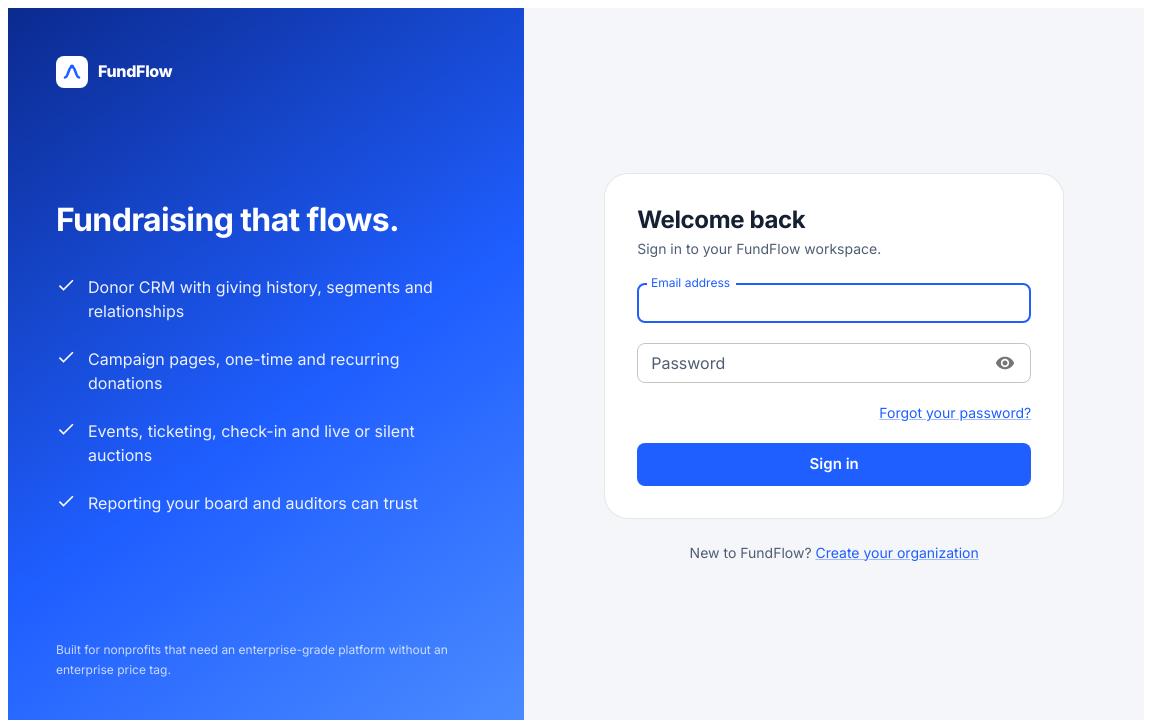
LoginPage › offers to resend the verification email when sign-in is blocked by an unverified address
In the field labelled "Email address": {"x": 834, "y": 303} left=637, top=283, right=1031, bottom=323, type "new@hope.org"
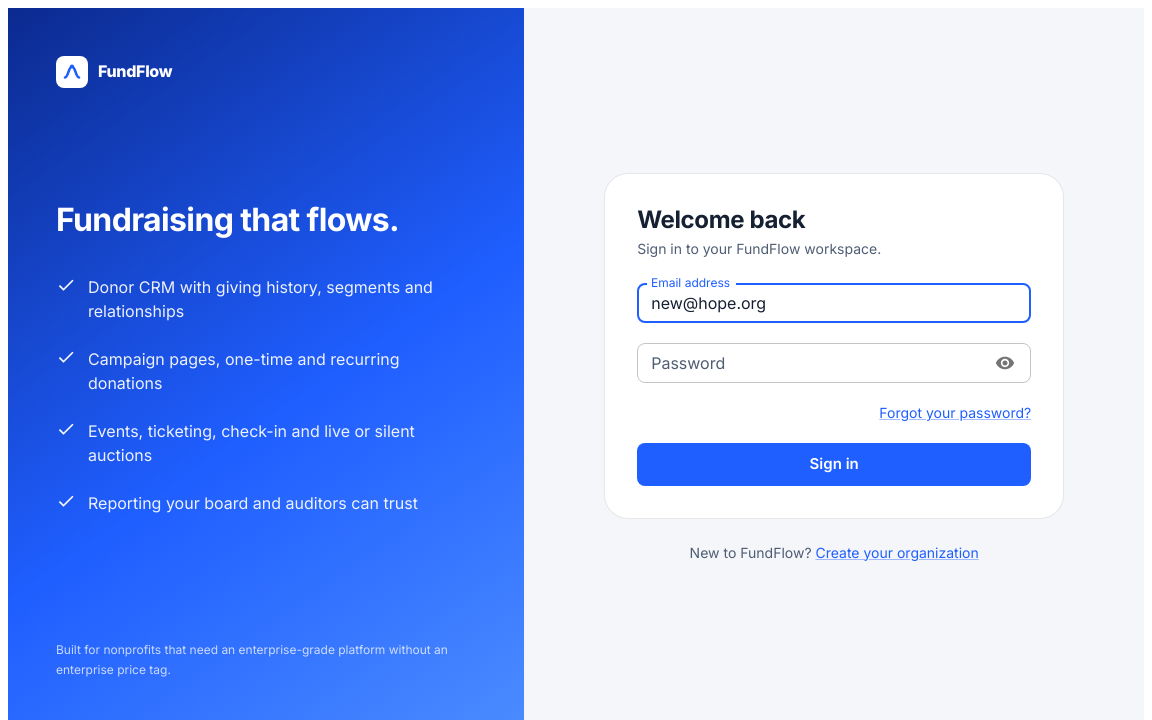
In the password field labelled "Password": {"x": 810, "y": 363} left=637, top=343, right=982, bottom=383, type "Correct-Horse-Battery9"
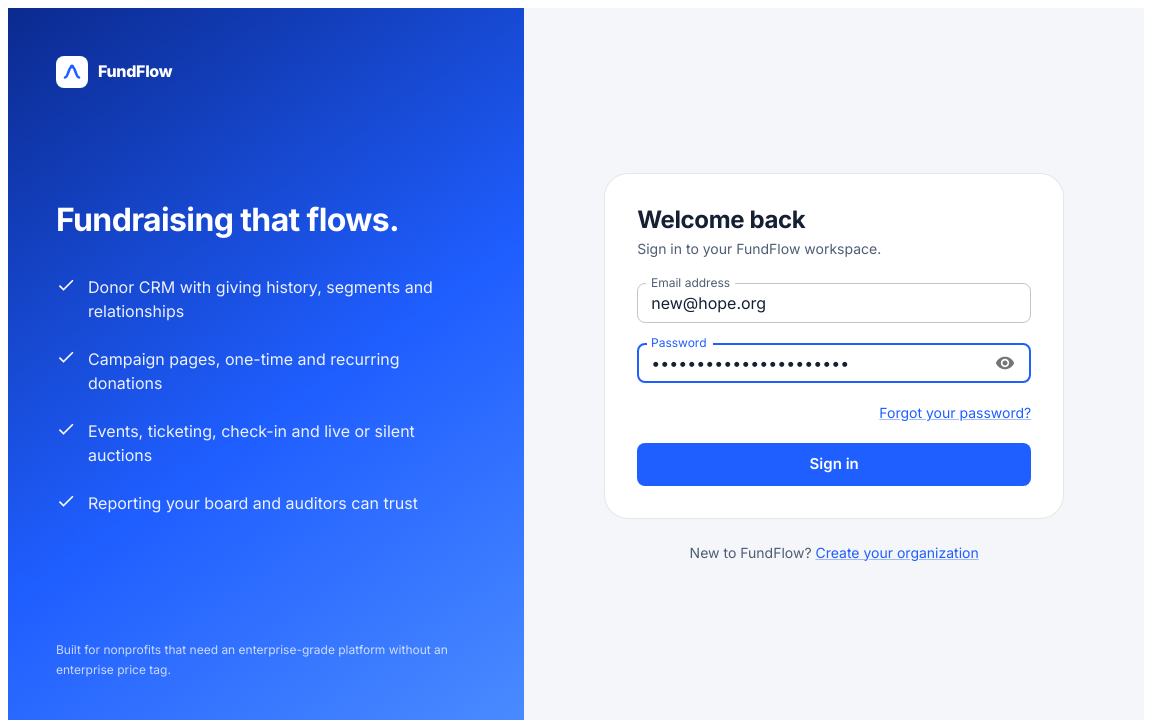
Click the button "Sign in": {"x": 834, "y": 464} left=637, top=443, right=1031, bottom=486
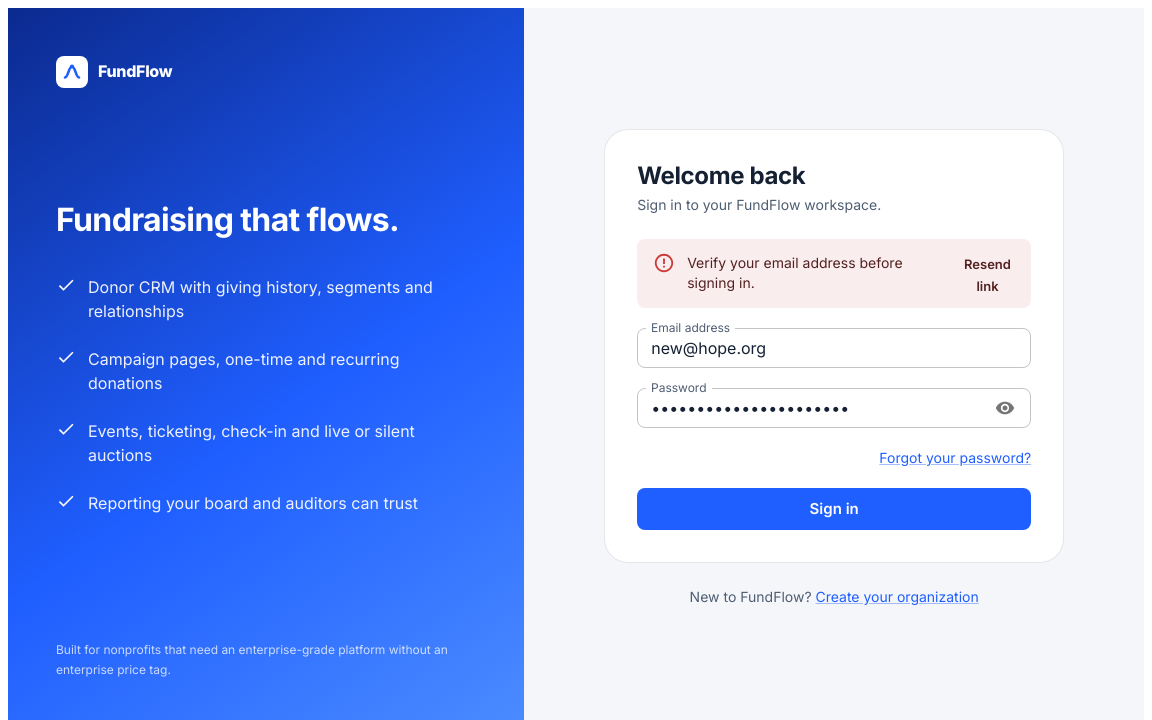
Click the button "Resend link": {"x": 988, "y": 275} left=952, top=248, right=1023, bottom=302
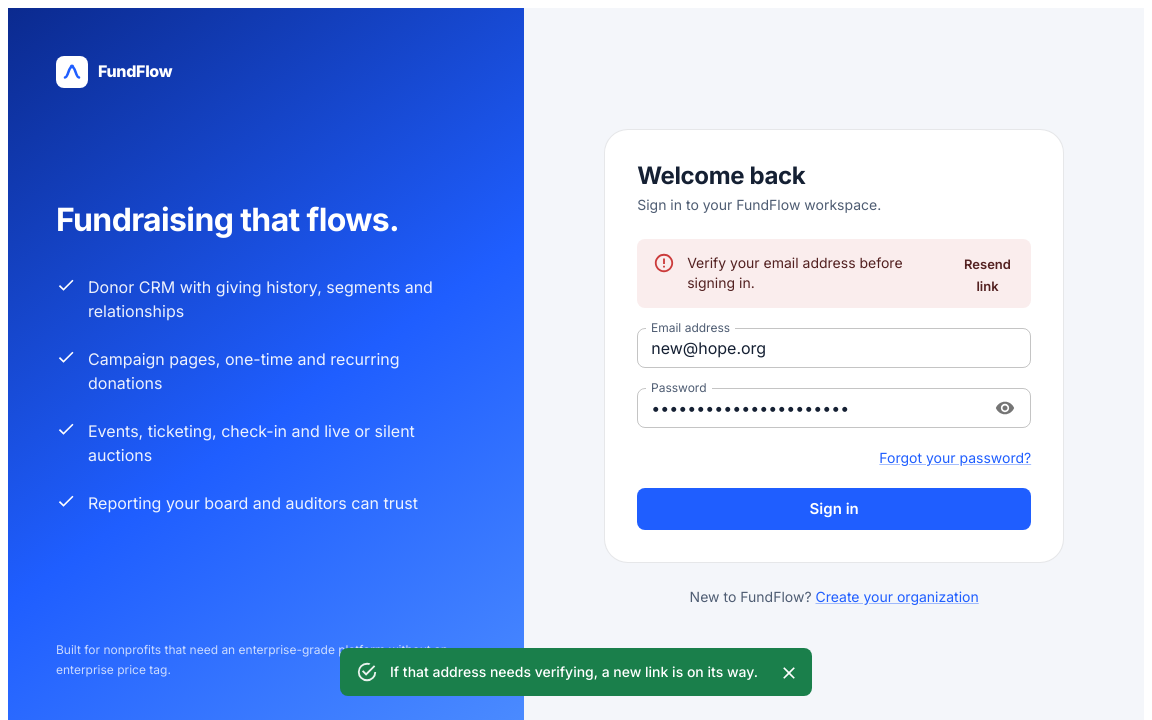
Now the text "If that address needs verifying, a new link is on its way." is shown, box left=390, top=663, right=758, bottom=680
